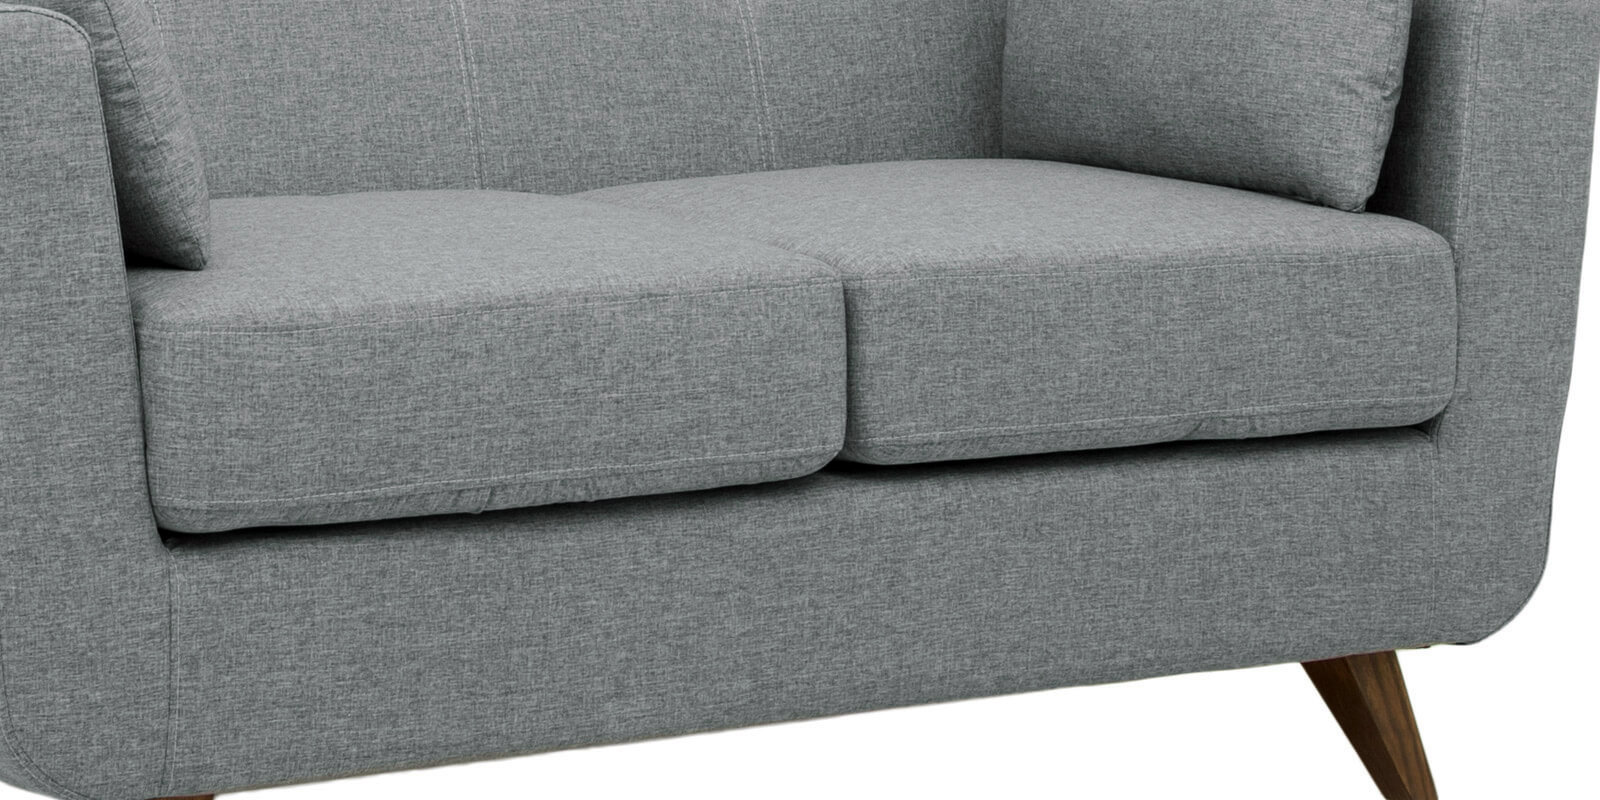Castello Three Seater Sofa in Gravel Grey Colour by CasaCraft: (16, 11, 1595, 740)
